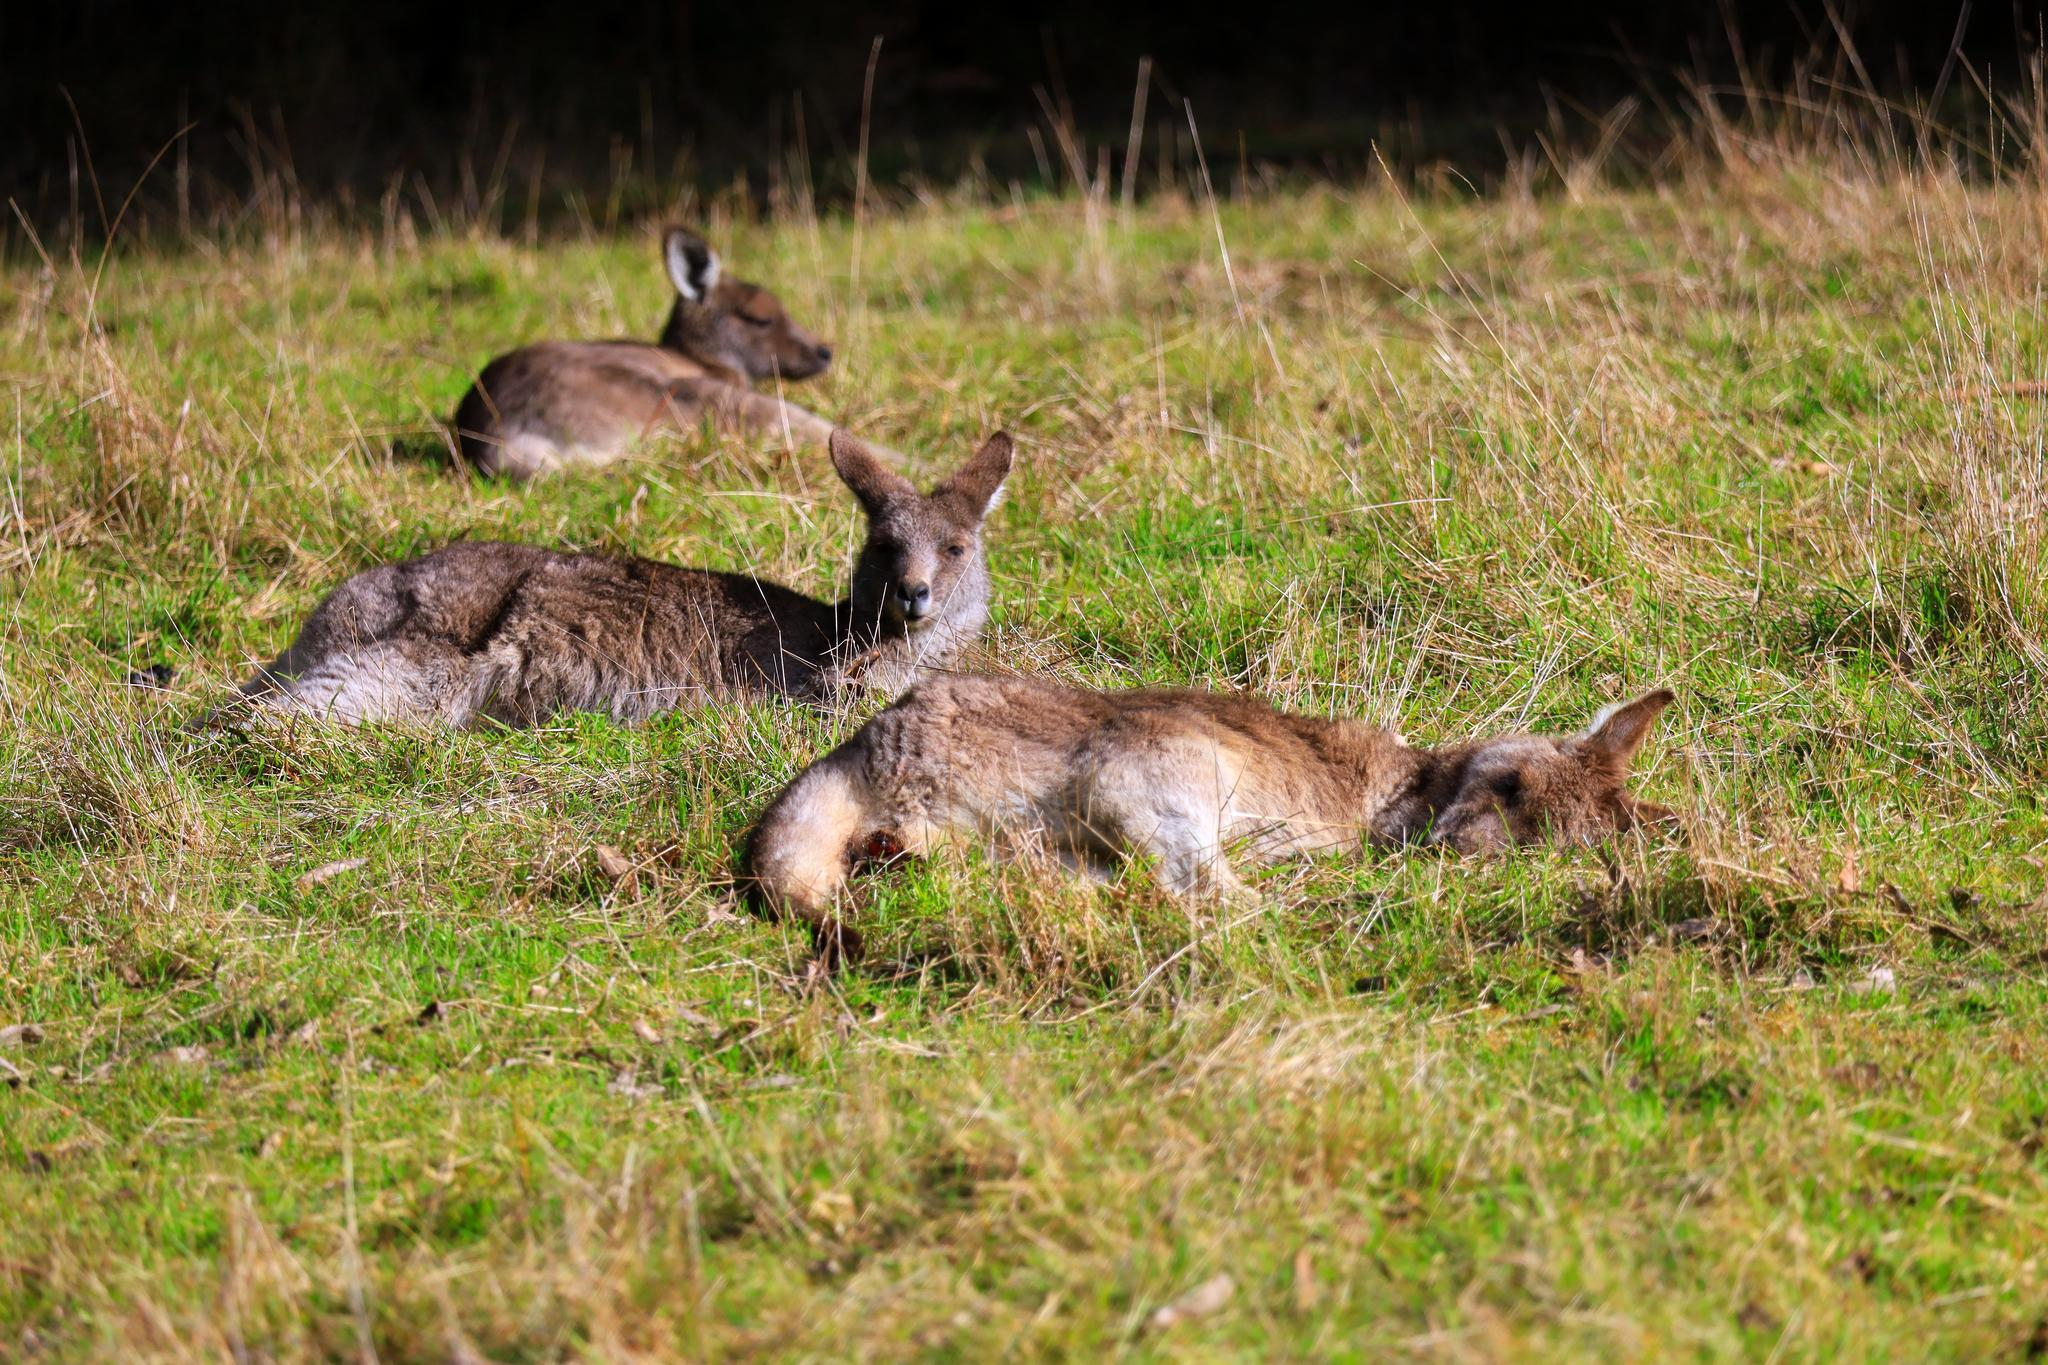Eastern grey kangaroo: (745, 675, 1683, 1002), (198, 430, 1025, 760), (437, 227, 932, 530)
